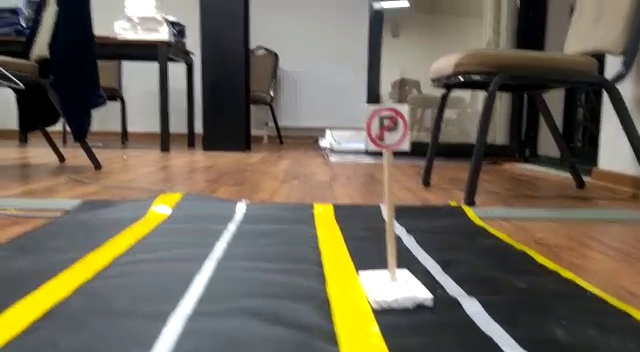park_yapilmaz: (362, 105, 410, 153)
